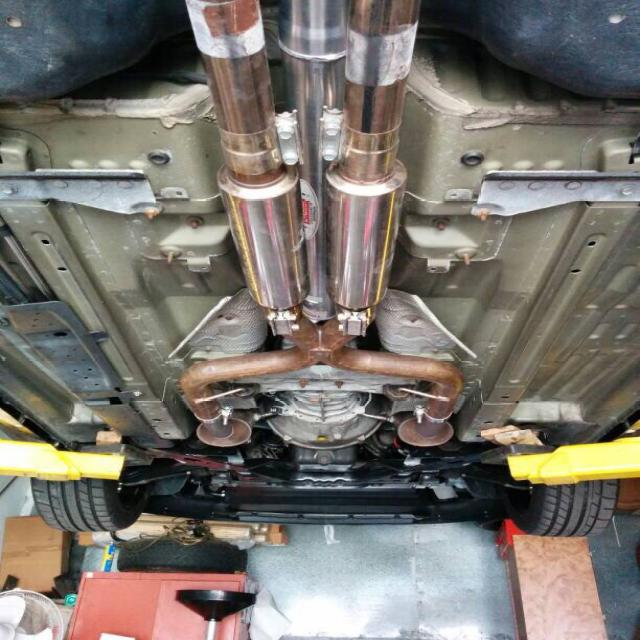Metal: (181, 0, 457, 450), (0, 50, 274, 449), (392, 35, 639, 443)
